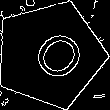O_SW: (16, 21, 84, 88)
